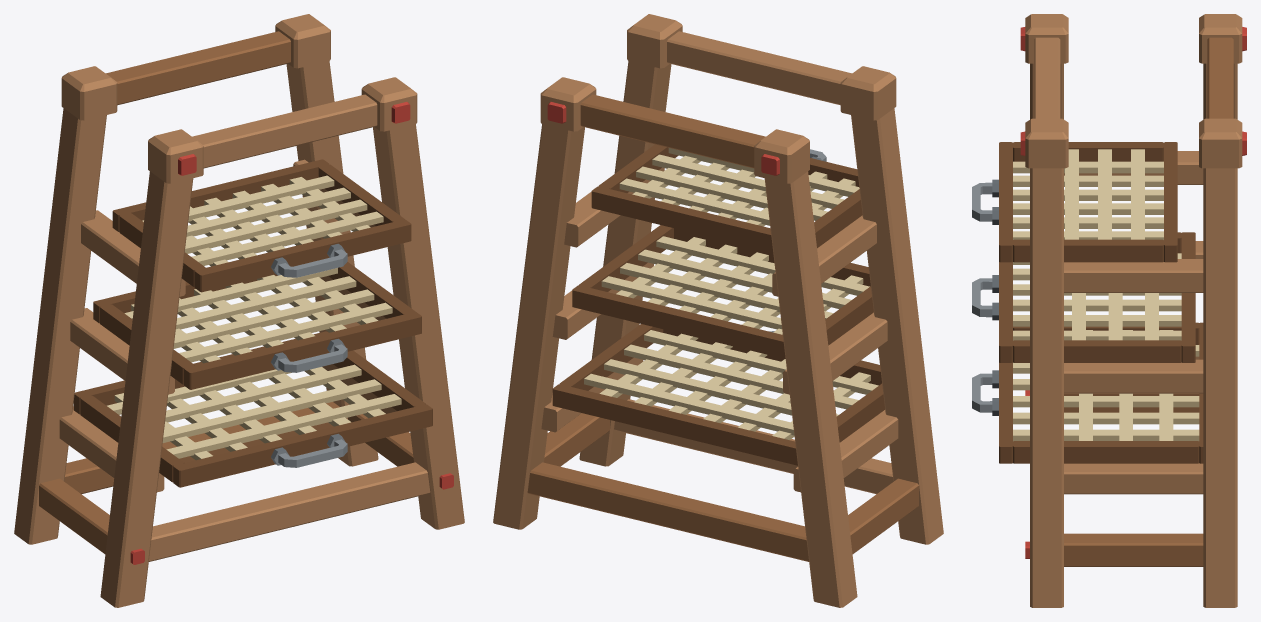
File: FMS_Workshop_STA_08.fbx
3 views of the same model, side by side, from view 1: azimuth 30°, elevation 25°; view 2: azimuth 150°, elevation 25°; view 3: azimuth 270°, elevation 25° (orthographic).
Parts seen in each view (by area): view 1: FMS_Workshop_STA_08_Frame, FMS_Workshop_STA_08; view 2: FMS_Workshop_STA_08_Frame, FMS_Workshop_STA_08; view 3: FMS_Workshop_STA_08_Frame, FMS_Workshop_STA_08.
Part boxes in pixels (left/top/right/bottom): FMS_Workshop_STA_08_Frame: left=14, top=14, right=464, bottom=607; FMS_Workshop_STA_08: left=73, top=159, right=432, bottom=487; FMS_Workshop_STA_08_Frame: left=493, top=14, right=943, bottom=607; FMS_Workshop_STA_08: left=552, top=144, right=884, bottom=465; FMS_Workshop_STA_08_Frame: left=1020, top=14, right=1246, bottom=607; FMS_Workshop_STA_08: left=972, top=142, right=1203, bottom=463.
Size of what is drawn, in the model's own units: 1.31 by 1.6 by 0.887.
1 material, 1 textured.
